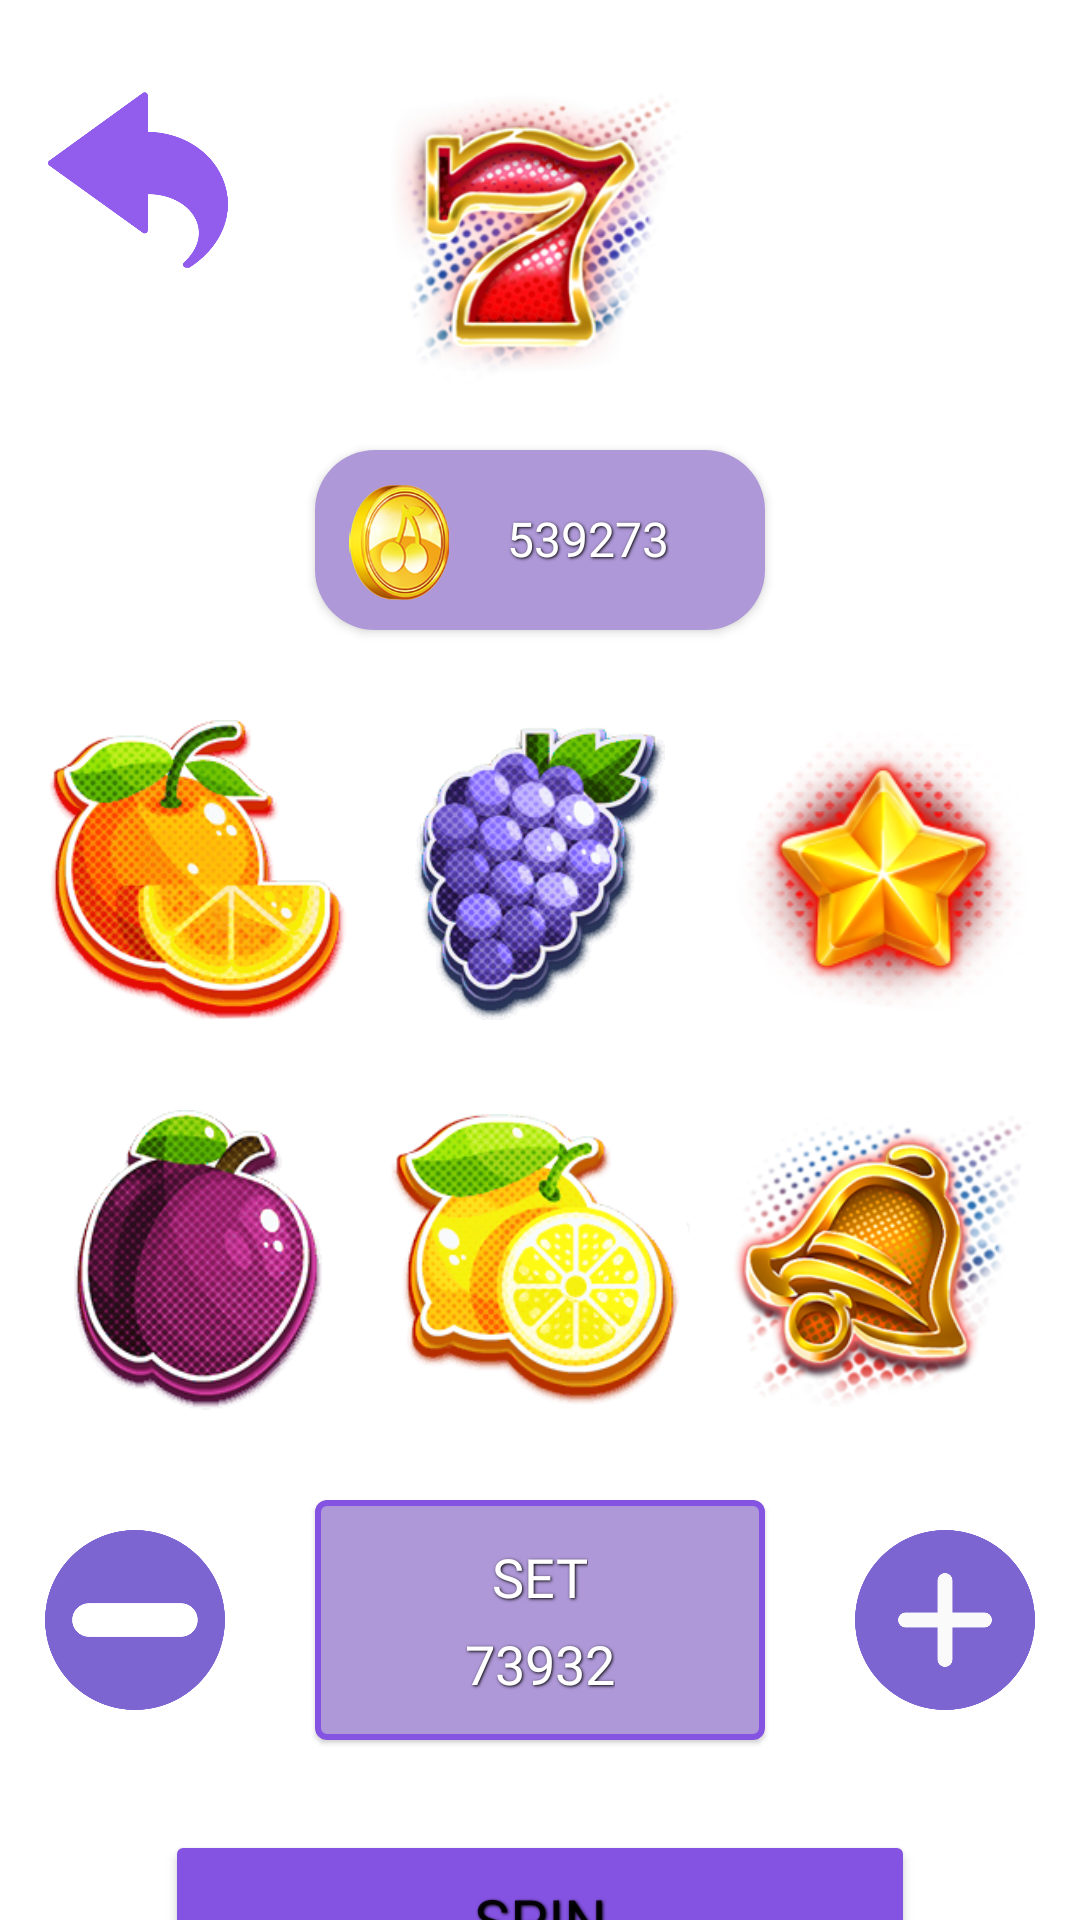

Named icons in this screenshot (1080w x 1920h) and their bounding boxes, (x1, y1, x2, y2):
back vodo: (48, 92, 228, 268)
mns vodo: (45, 1530, 225, 1710)
plus vodo: (855, 1530, 1035, 1710)
